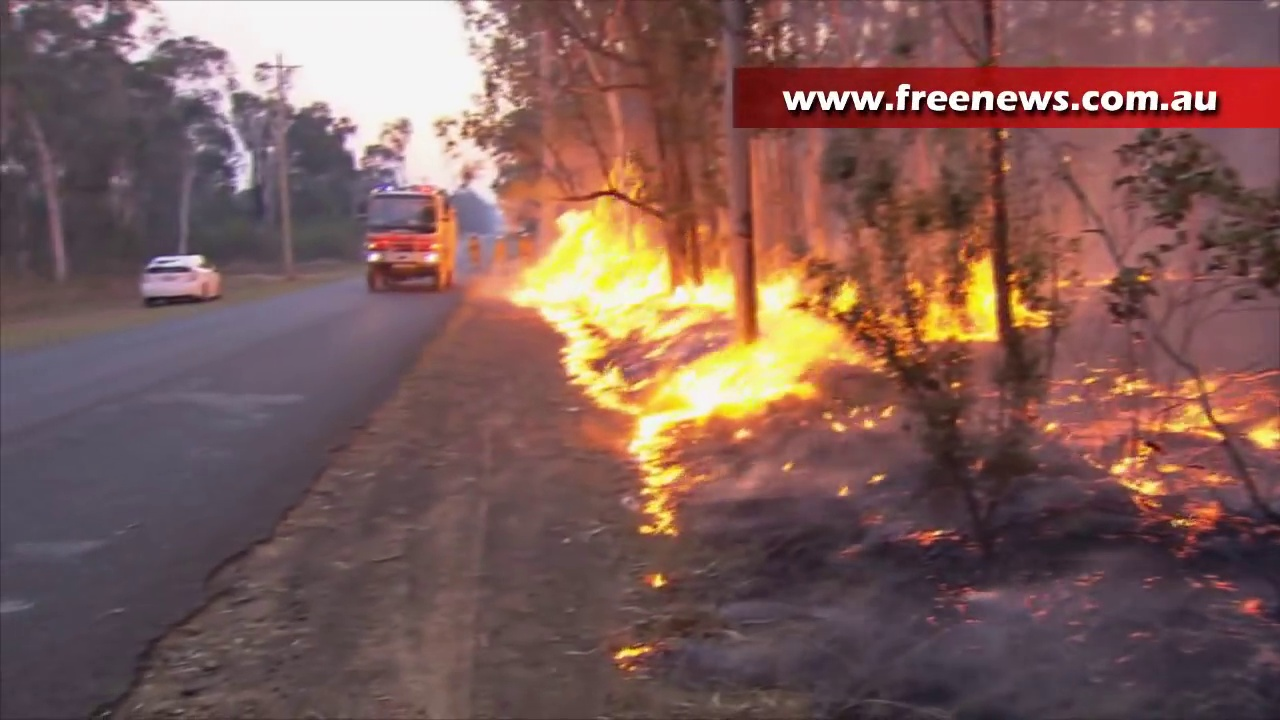fire: (530, 208, 834, 418), (1109, 378, 1280, 490), (919, 253, 995, 348), (629, 422, 683, 540)
